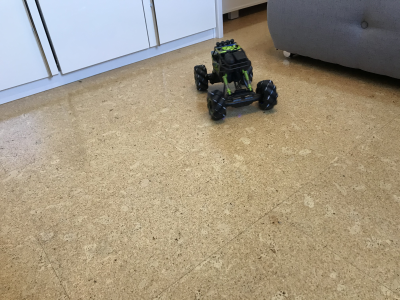remote control car: (186, 38, 282, 122)
